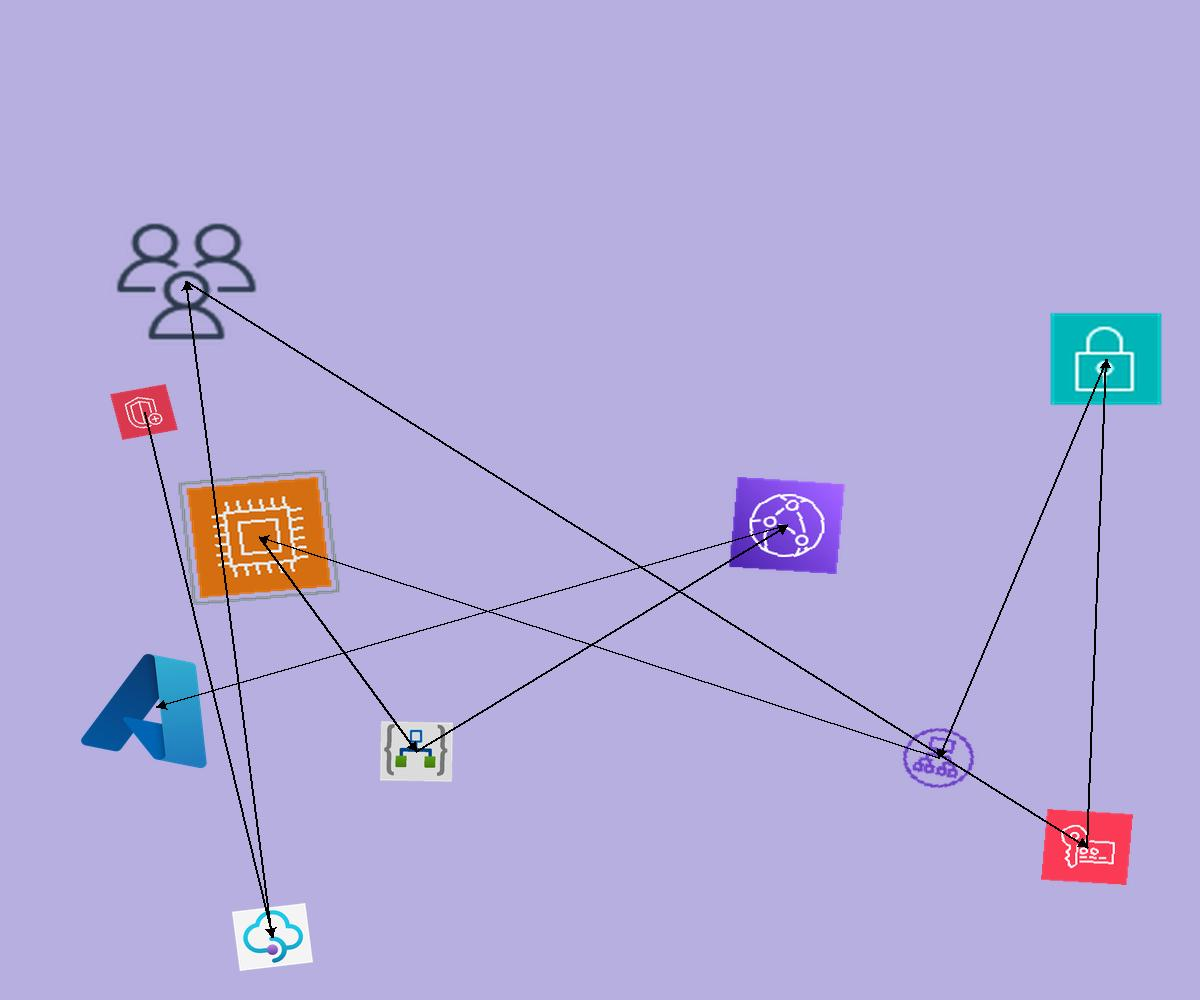AWS-Category_Compute: (177, 469, 341, 606)
AWS-CloudFront: (728, 476, 846, 575)
AWS-Key-Management-Service: (1041, 809, 1133, 885)
AWS-Private-subnet: (1048, 311, 1164, 407)
AWS-Res_Elastic-Load-Balancing_Application-Load-Balancer: (892, 719, 985, 797)
AWS-Res_Users: (108, 216, 265, 347)
AWS-Shield: (110, 384, 178, 440)
Azure_api_gateway: (232, 903, 313, 971)
Azure_integration-204-Logic-Apps: (380, 721, 453, 782)
Azure_services: (72, 637, 241, 778)
